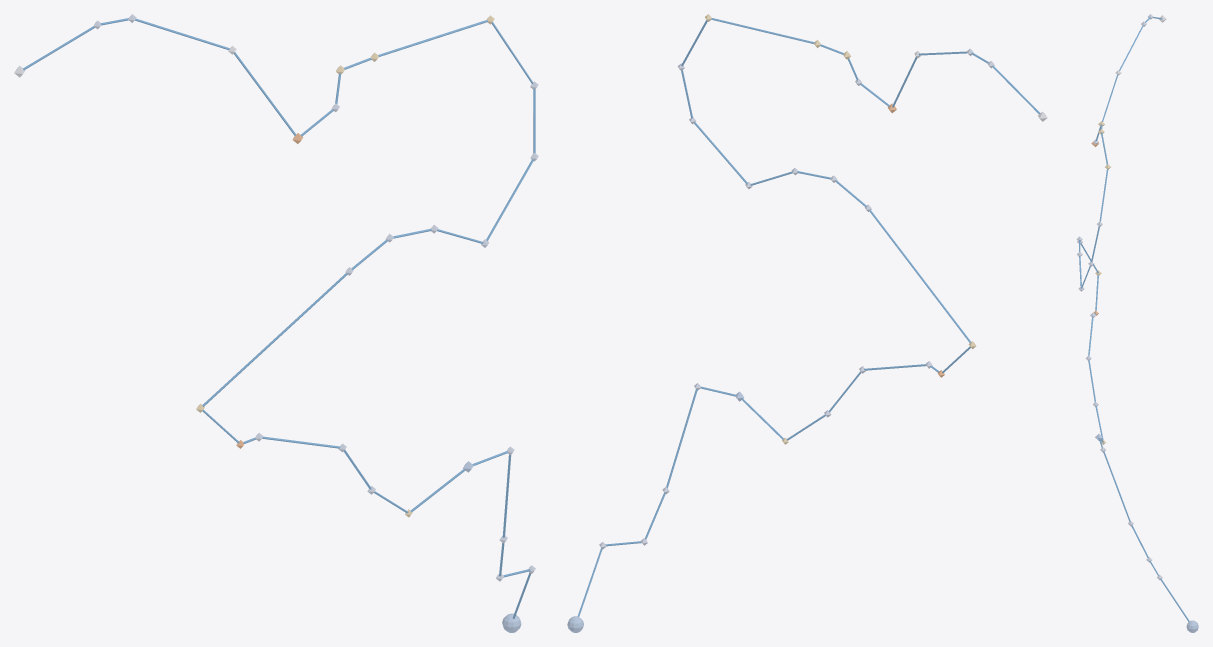
Rendered from constellation-eri.glb.
3 renders of one model, left to right at view 1: azimuth 30°, elevation 25°; view 2: azimuth 150°, elevation 25°; view 3: azimuth 270°, elevation 25°, orthographic. The views are drawn at different scales.
Size of the model in its own units: 4.13 by 5.57 by 1.28.
